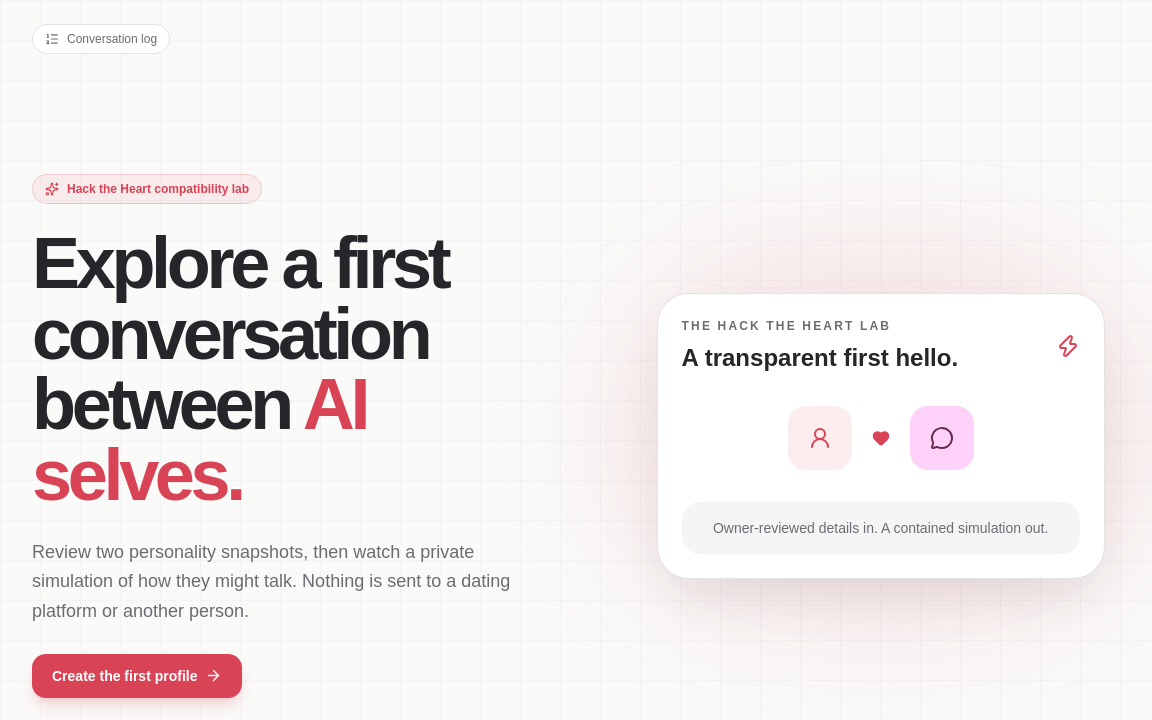
Test: loads stored profiles, selects one, and keeps URL import available
The width and height of the screenshot is (1152, 720).
Click the button "Create the first profile": (137, 676) left=32, top=654, right=242, bottom=698
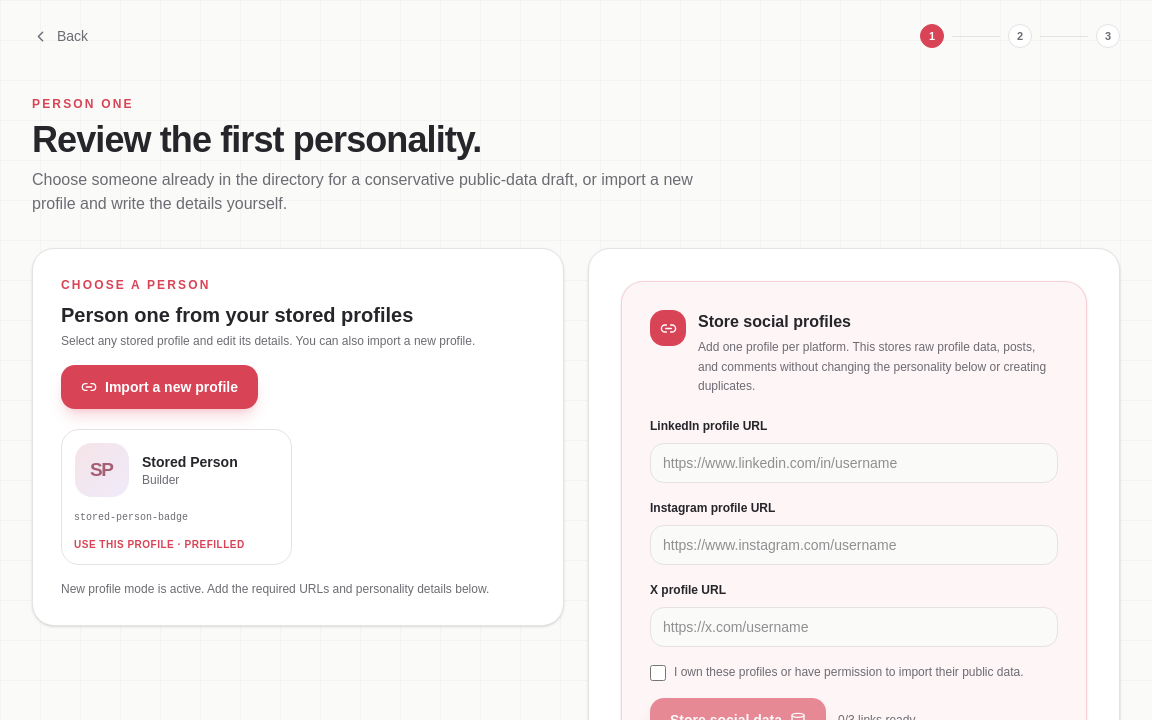
Now the text "Stored Person" is shown, box left=142, top=452, right=238, bottom=472
Click the button that starts with "Stored Person": (176, 497) left=61, top=429, right=292, bottom=565
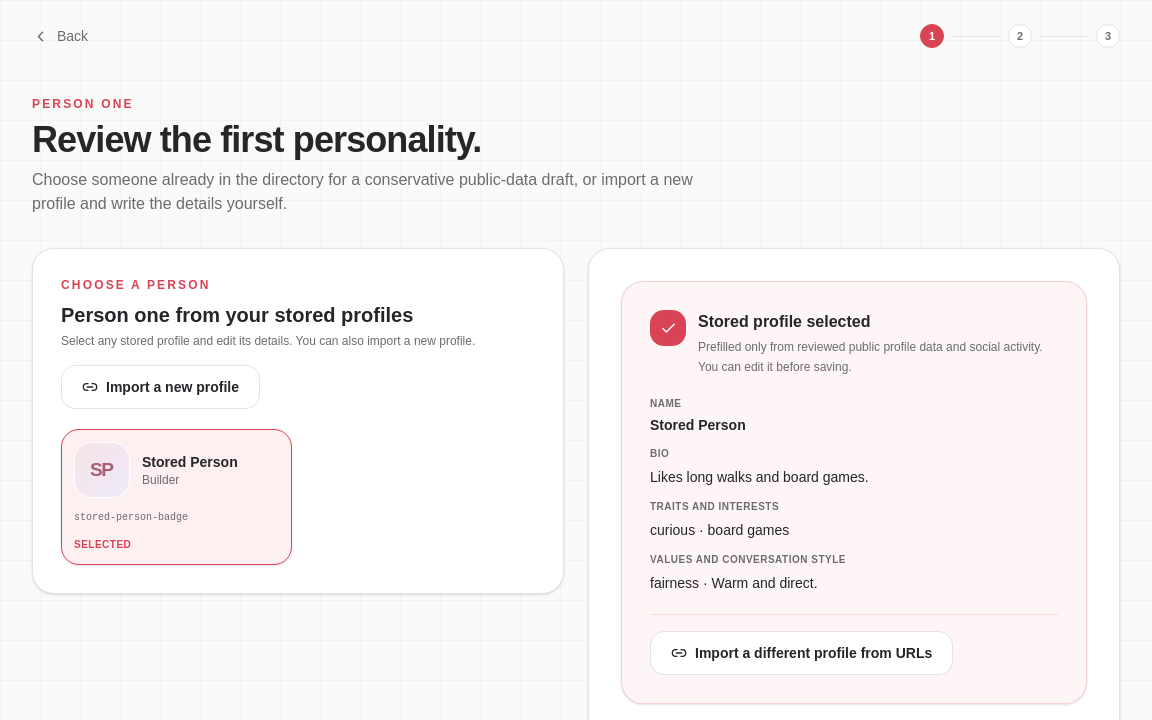
Now the text "Prefilled only from reviewed public profile data and social activity" is shown, box left=698, top=340, right=1043, bottom=354
Now the text "curious · board games" is shown, box left=650, top=522, right=789, bottom=538
Click the button "Import a different profile from URLs": (802, 653) left=650, top=631, right=953, bottom=675
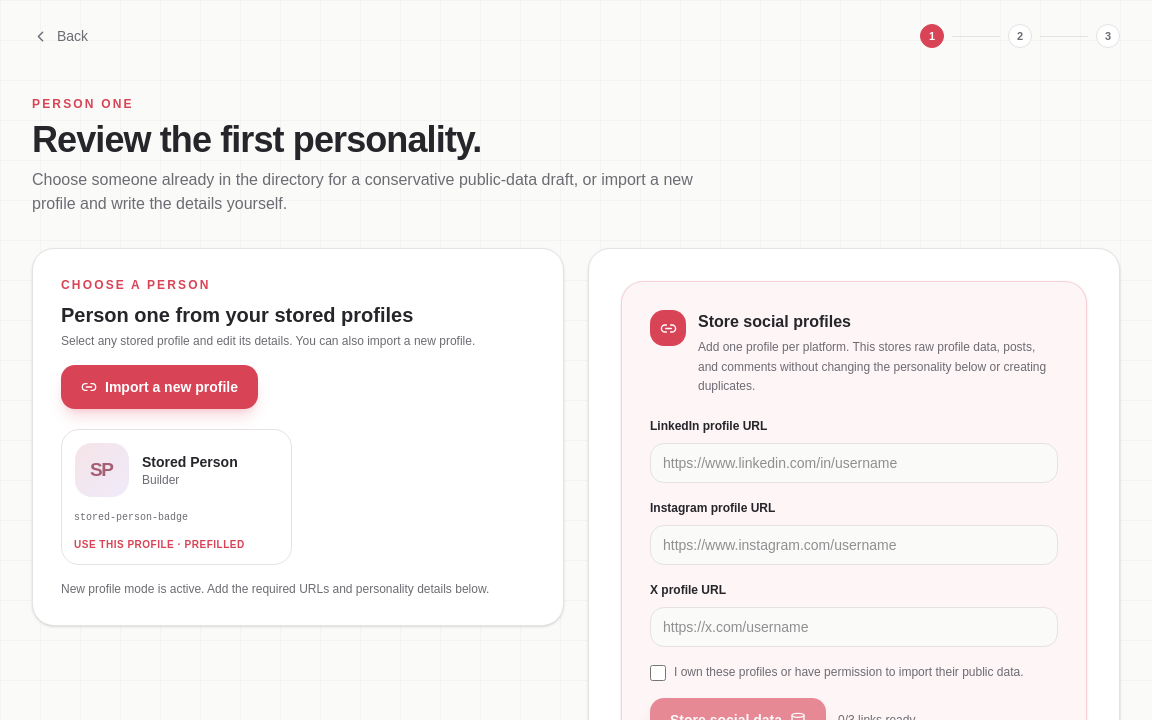
Now the heading "Store social profiles" is shown, box left=698, top=313, right=851, bottom=330
Now the field with placeholder "https://www.linkedin.com/in/username" is shown, box left=650, top=442, right=1058, bottom=482
